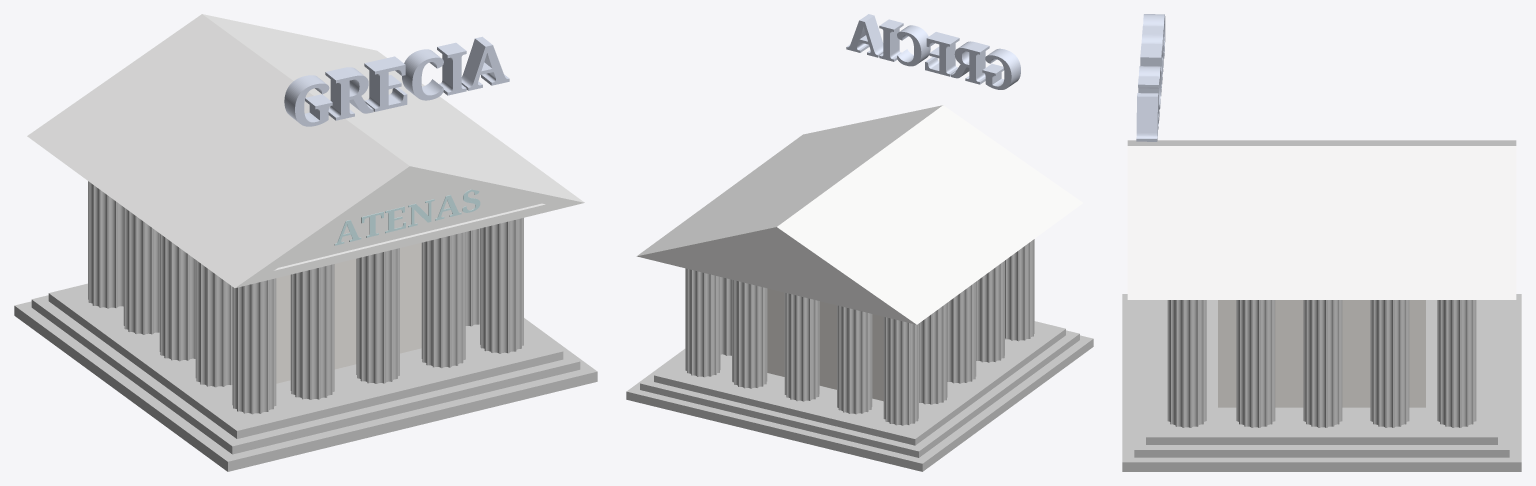
File: Grecia.glb
3 renders of one model, left to right at view 1: azimuth 30°, elevation 25°; view 2: azimuth 150°, elevation 25°; view 3: azimuth 270°, elevation 25°, orthographic. The views are drawn at different scales.
Parts seen in each view (by area): view 1: Mesh_Mesh_head_geo.001_lambert2SG.001; view 2: Mesh_Mesh_head_geo.001_lambert2SG.001; view 3: Mesh_Mesh_head_geo.001_lambert2SG.001.
Boxes of the visible parts, x1,y1,x2,y2 form: Mesh_Mesh_head_geo.001_lambert2SG.001: [14, 14, 597, 471]; Mesh_Mesh_head_geo.001_lambert2SG.001: [626, 14, 1093, 471]; Mesh_Mesh_head_geo.001_lambert2SG.001: [1122, 14, 1521, 471].
Bounding box in the file's own units: 0.19 × 0.1744 × 0.19.
